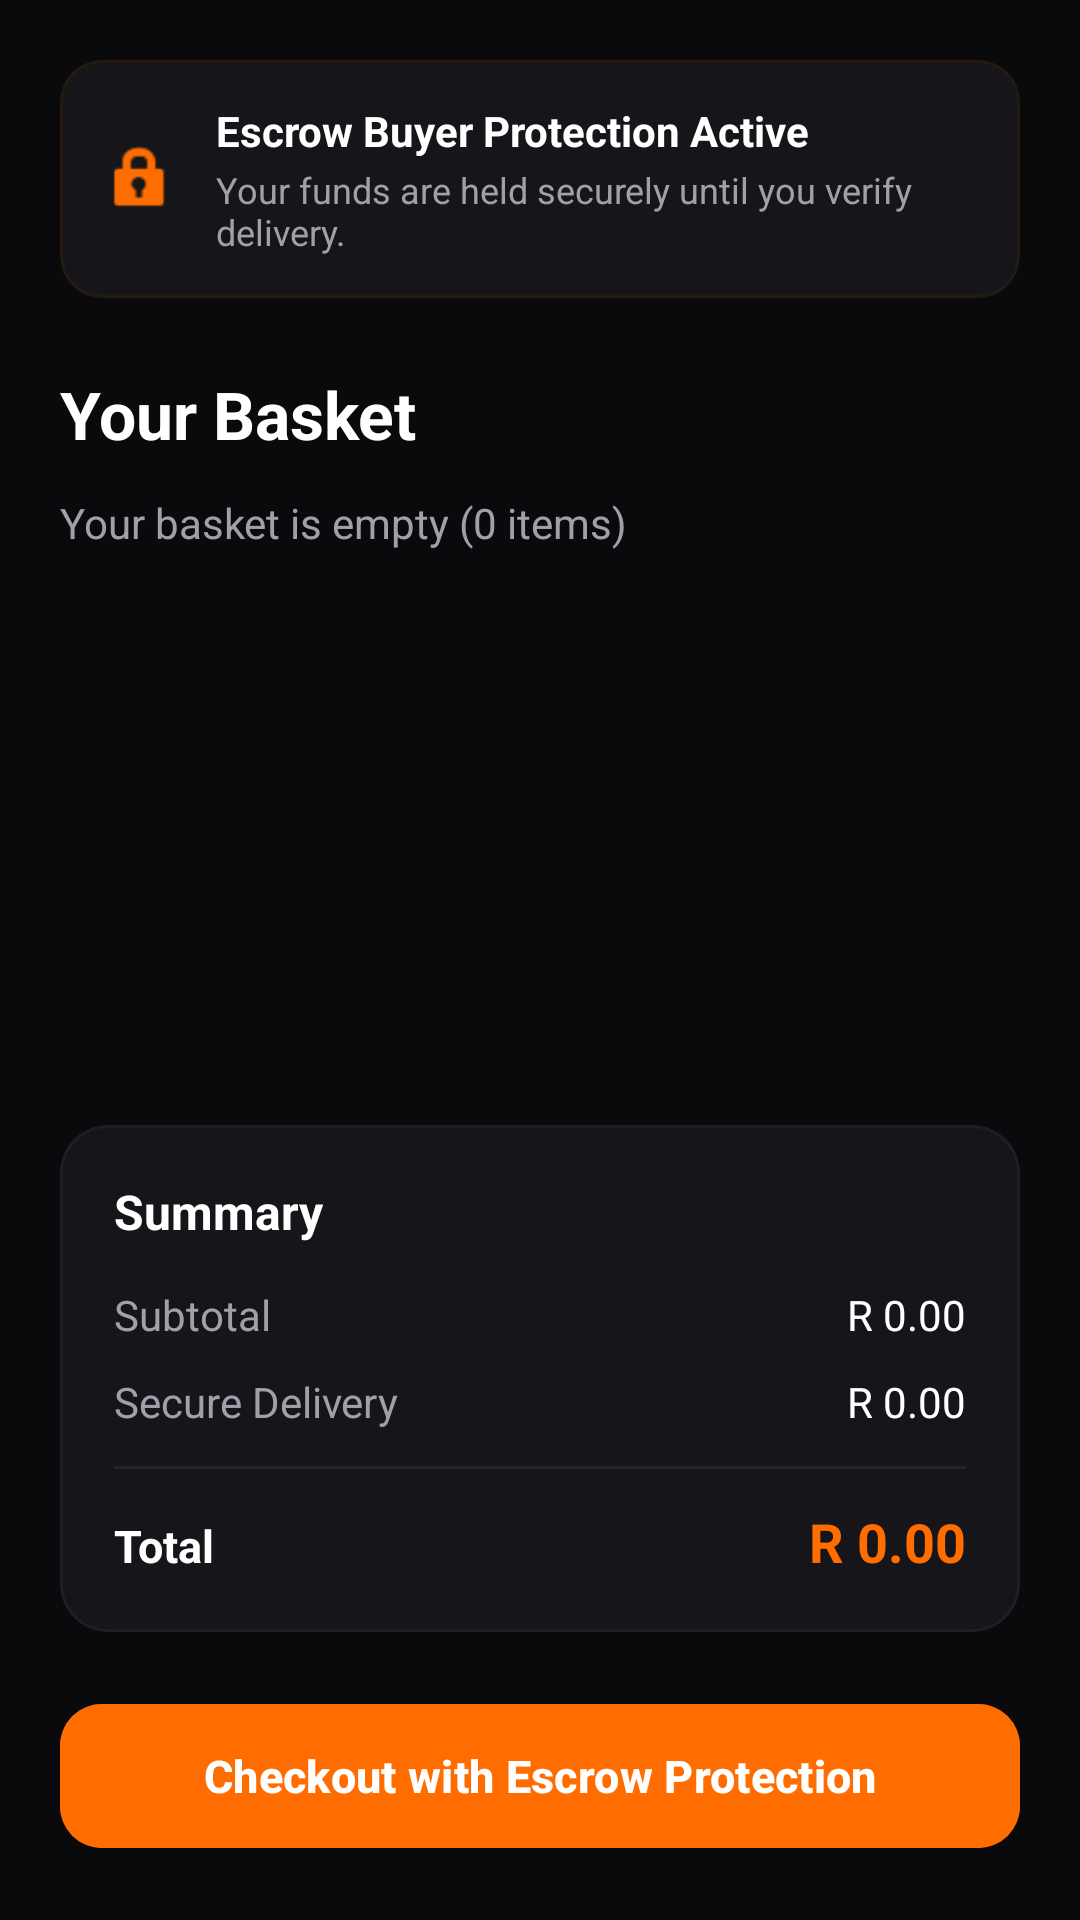

Where icons sit on this 1080*1920 app screen, as BBox(x1, y1, x2, y2):
Escrow Protected Icon: BBox(114, 146, 165, 206)
